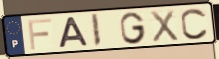A: (57, 16, 91, 49)
C: (179, 7, 210, 41)
F: (26, 17, 54, 51)
G: (119, 11, 148, 46)
I: (90, 13, 103, 49)
X: (148, 9, 180, 44)
